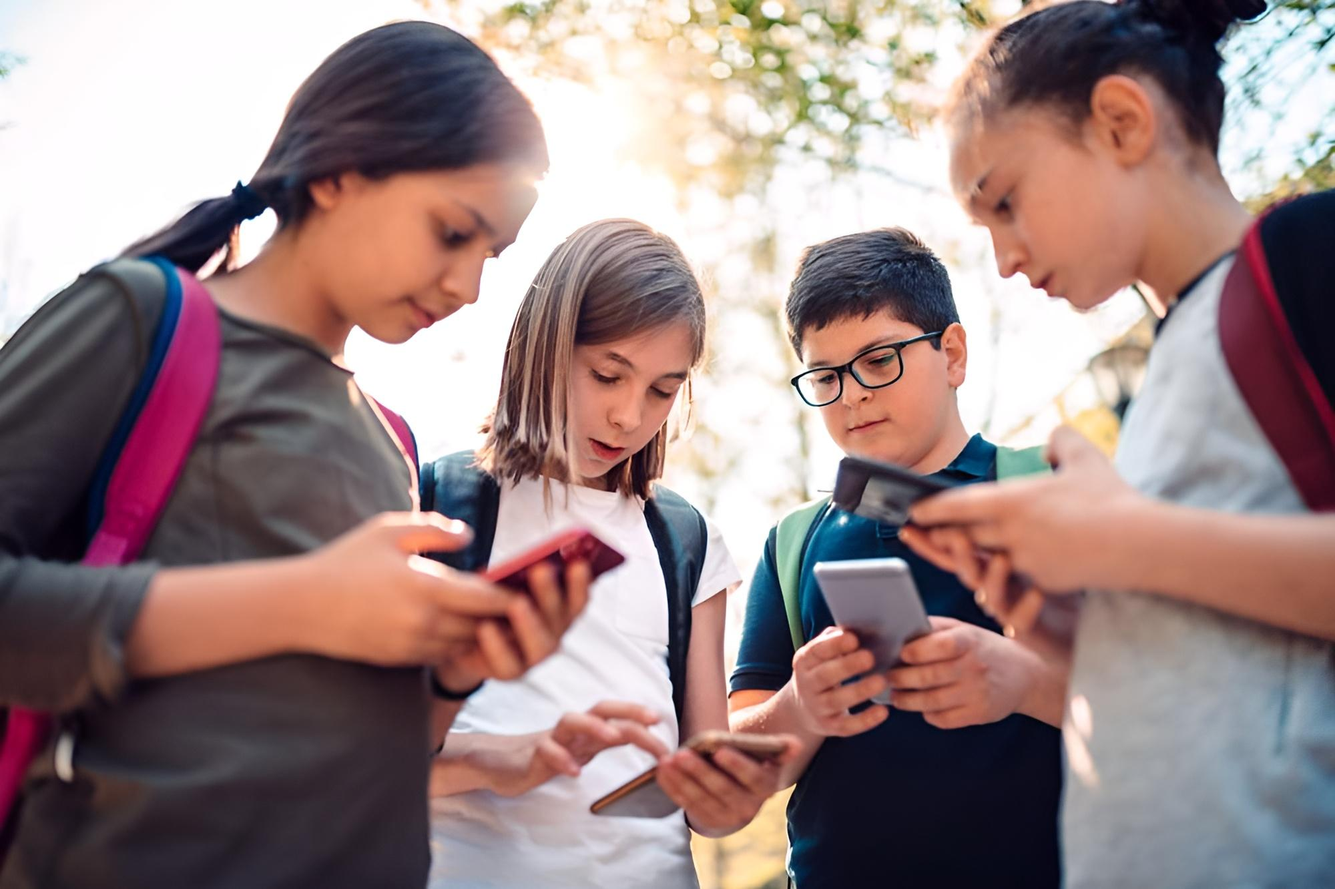phone: (0, 18, 622, 719), (829, 0, 1335, 652), (422, 220, 790, 842), (735, 226, 1116, 801)
